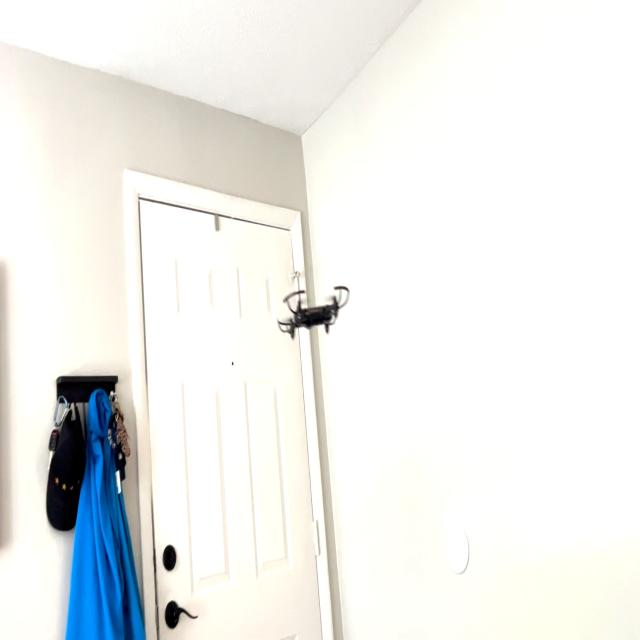drone: (269, 266, 361, 352)
